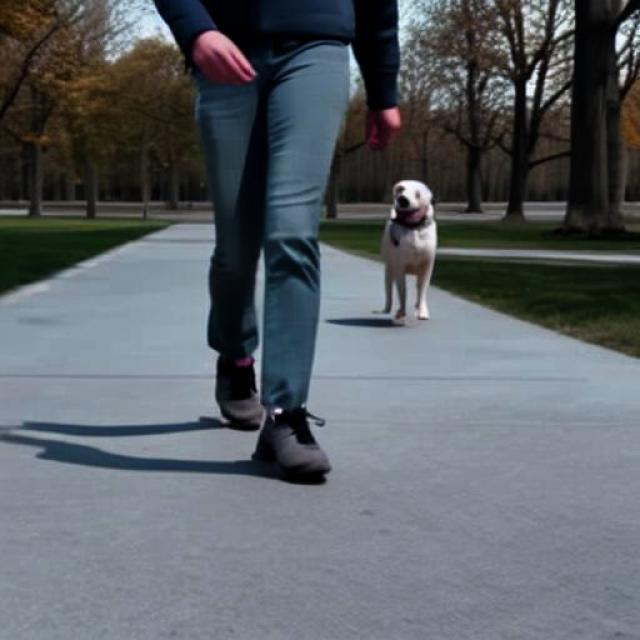Unleashed_Dog: (216, 45, 435, 324)
